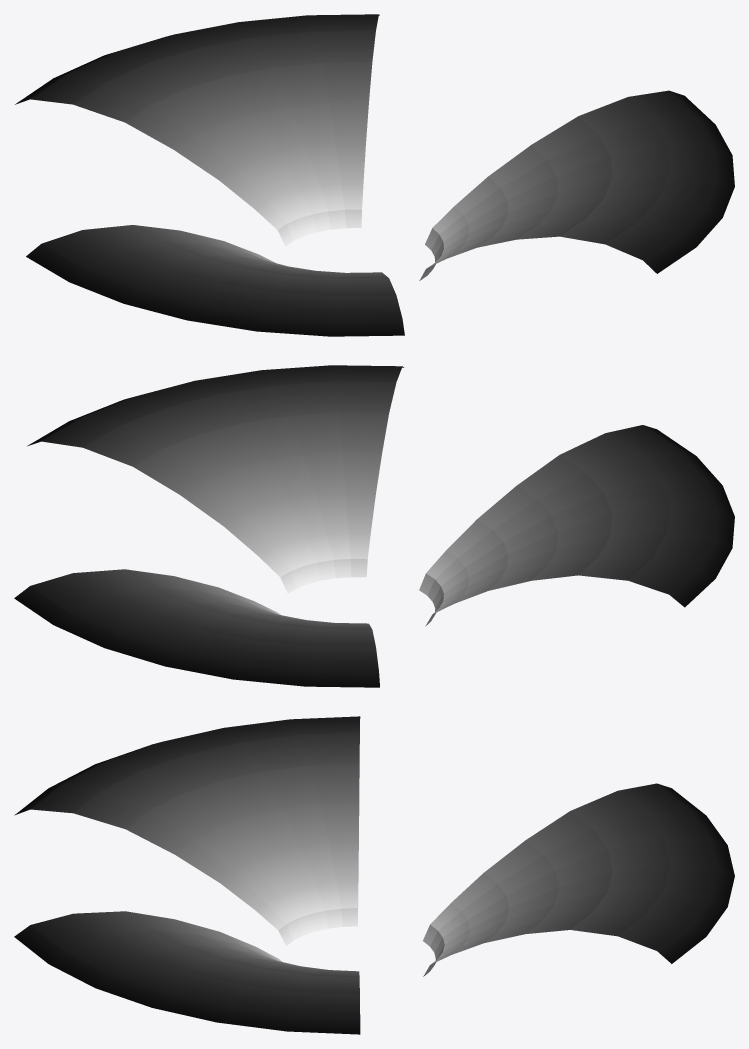
Rendered from Arrows.fbx.
3 renders of one model, top to bottom at view 1: azimuth 30°, elevation 25°; view 2: azimuth 150°, elevation 25°; view 3: azimuth 270°, elevation 25°, orthographic.
Visible parts, largest first — view 1: Arrows; view 2: Arrows; view 3: Arrows.
Part boxes in pixels (box(x1,y1,x2,y2)): Arrows: box(15, 14, 734, 336); Arrows: box(14, 365, 734, 687); Arrows: box(14, 716, 734, 1034).
Bounding box in the file's own units: 276 × 38.9 × 266.
1 material, 1 textured.
